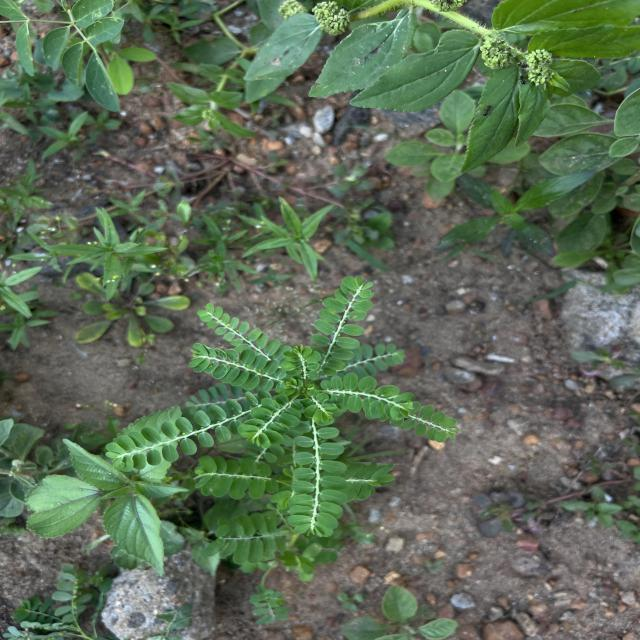Phyllanthus niruri: (100, 396, 260, 474), (286, 420, 350, 540), (310, 274, 376, 379), (195, 300, 295, 360), (186, 340, 284, 394), (316, 372, 420, 422), (234, 396, 306, 449)
